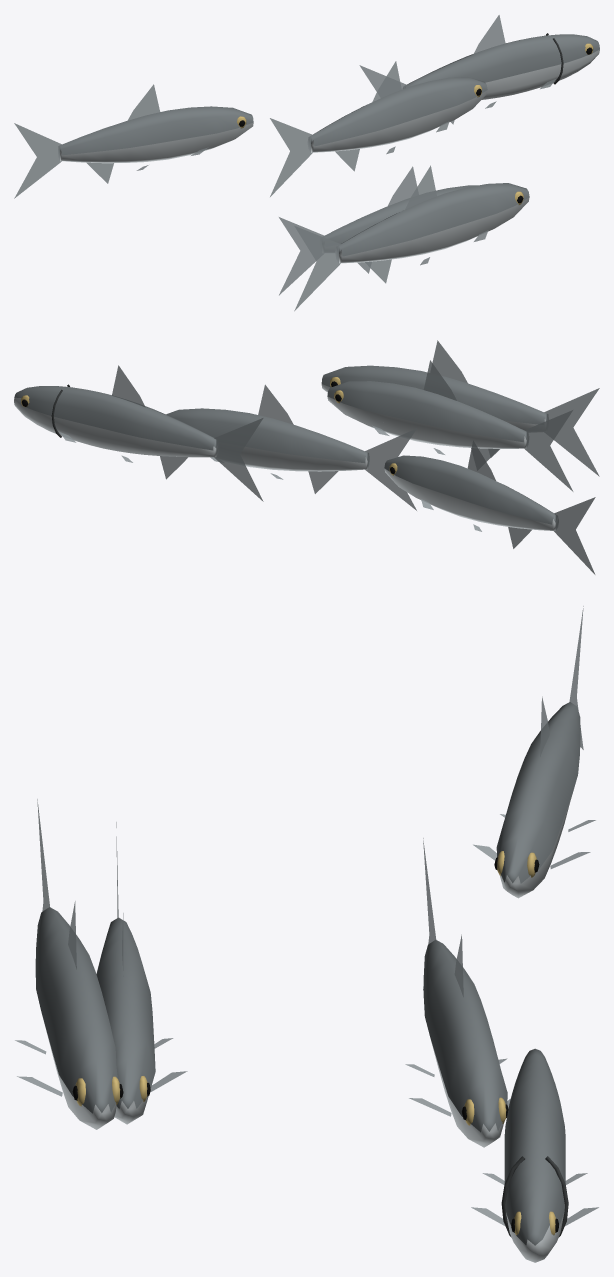
The model's file is lake-chebak-shallows-0.glb.
3 views of the same model, one above another, from view 1: azimuth 30°, elevation 25°; view 2: azimuth 150°, elevation 25°; view 3: azimuth 270°, elevation 25° (orthographic). The views are drawn at different scales.
Visible parts, largest first — view 1: lake-chebak-shallows-0; view 2: lake-chebak-shallows-0; view 3: lake-chebak-shallows-0.
Boxes of the visible parts, x1=… form: lake-chebak-shallows-0: x1=14, y1=15, x2=599, y2=311; lake-chebak-shallows-0: x1=14, y1=340, x2=599, y2=574; lake-chebak-shallows-0: x1=15, y1=606, x2=598, y2=1262.
Size of the model in its own units: 0.7455 by 0.1693 by 0.3442.
